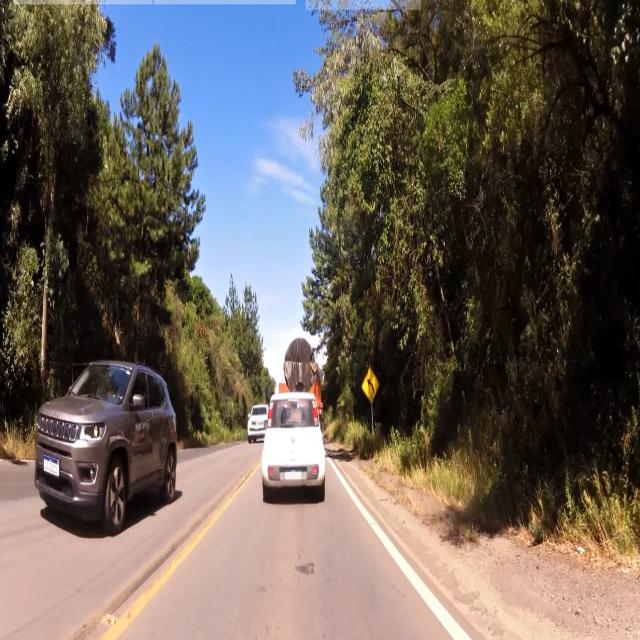A-2a: (362, 368, 381, 403)
